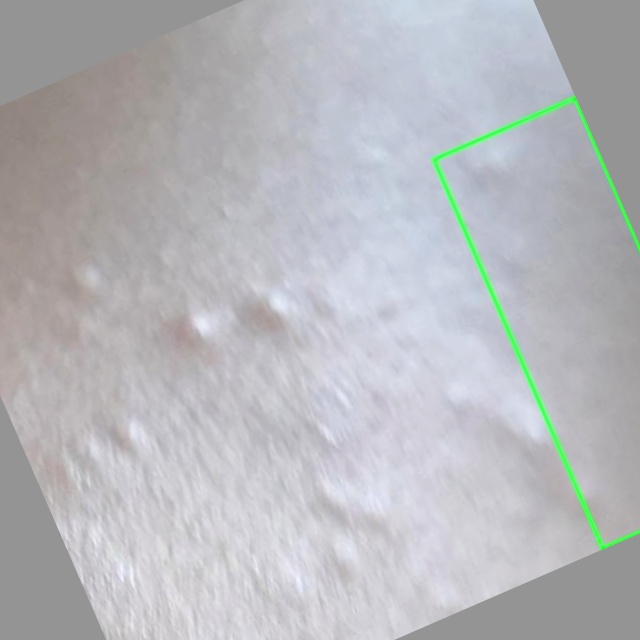Seborrheic Dermatitis: (433, 97, 639, 548)
